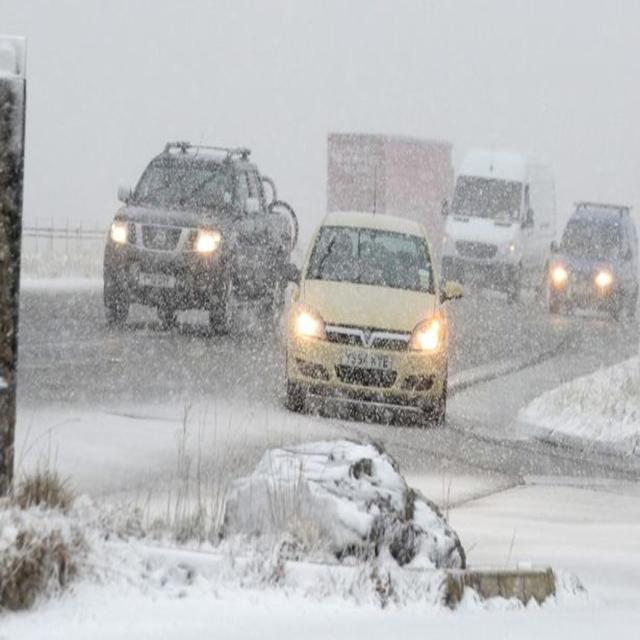bus: (328, 129, 452, 277)
car: (280, 208, 458, 432), (102, 144, 298, 340), (446, 149, 552, 301), (541, 205, 637, 338)
